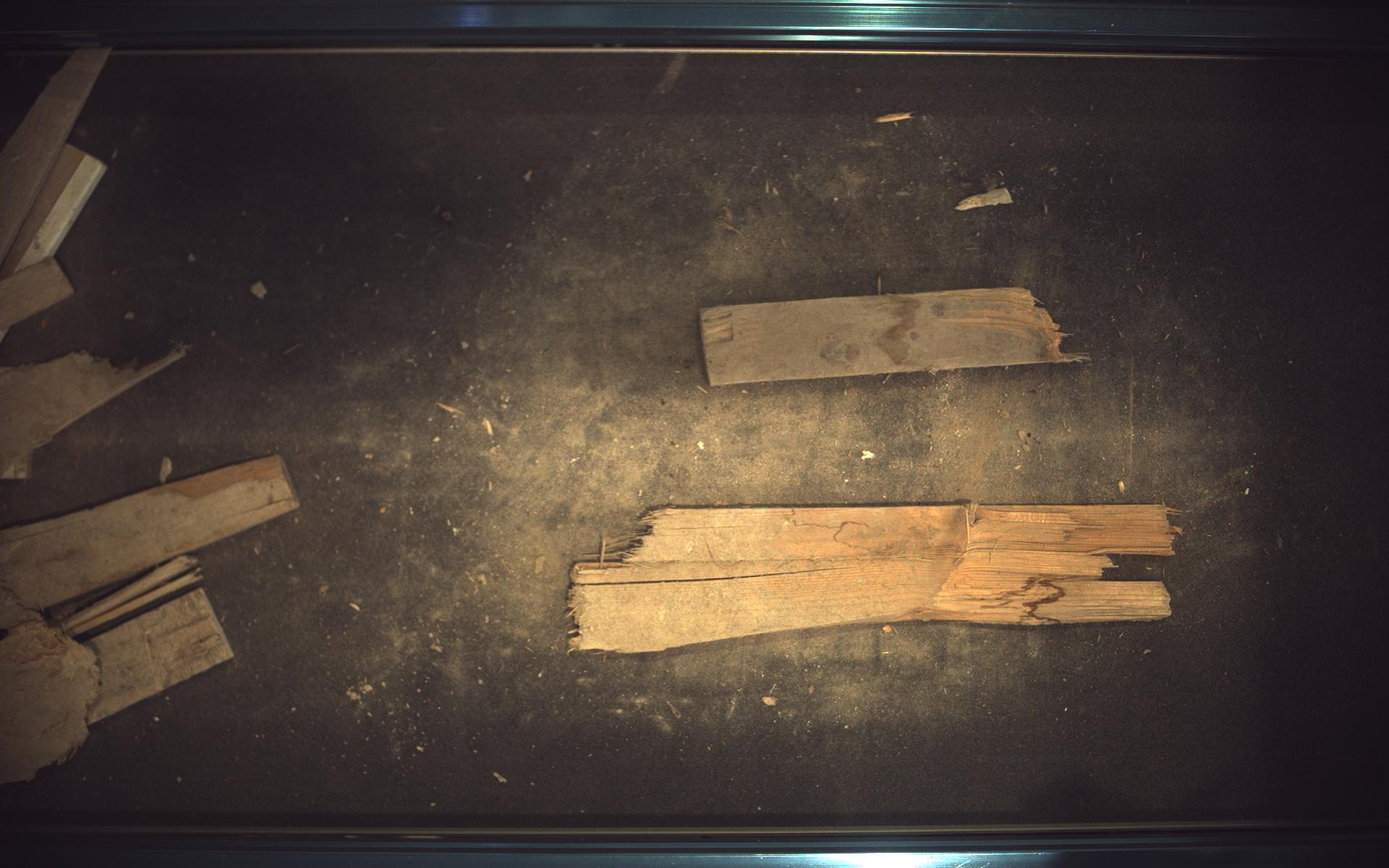wood: (569, 505, 1176, 654), (701, 287, 1088, 386)
